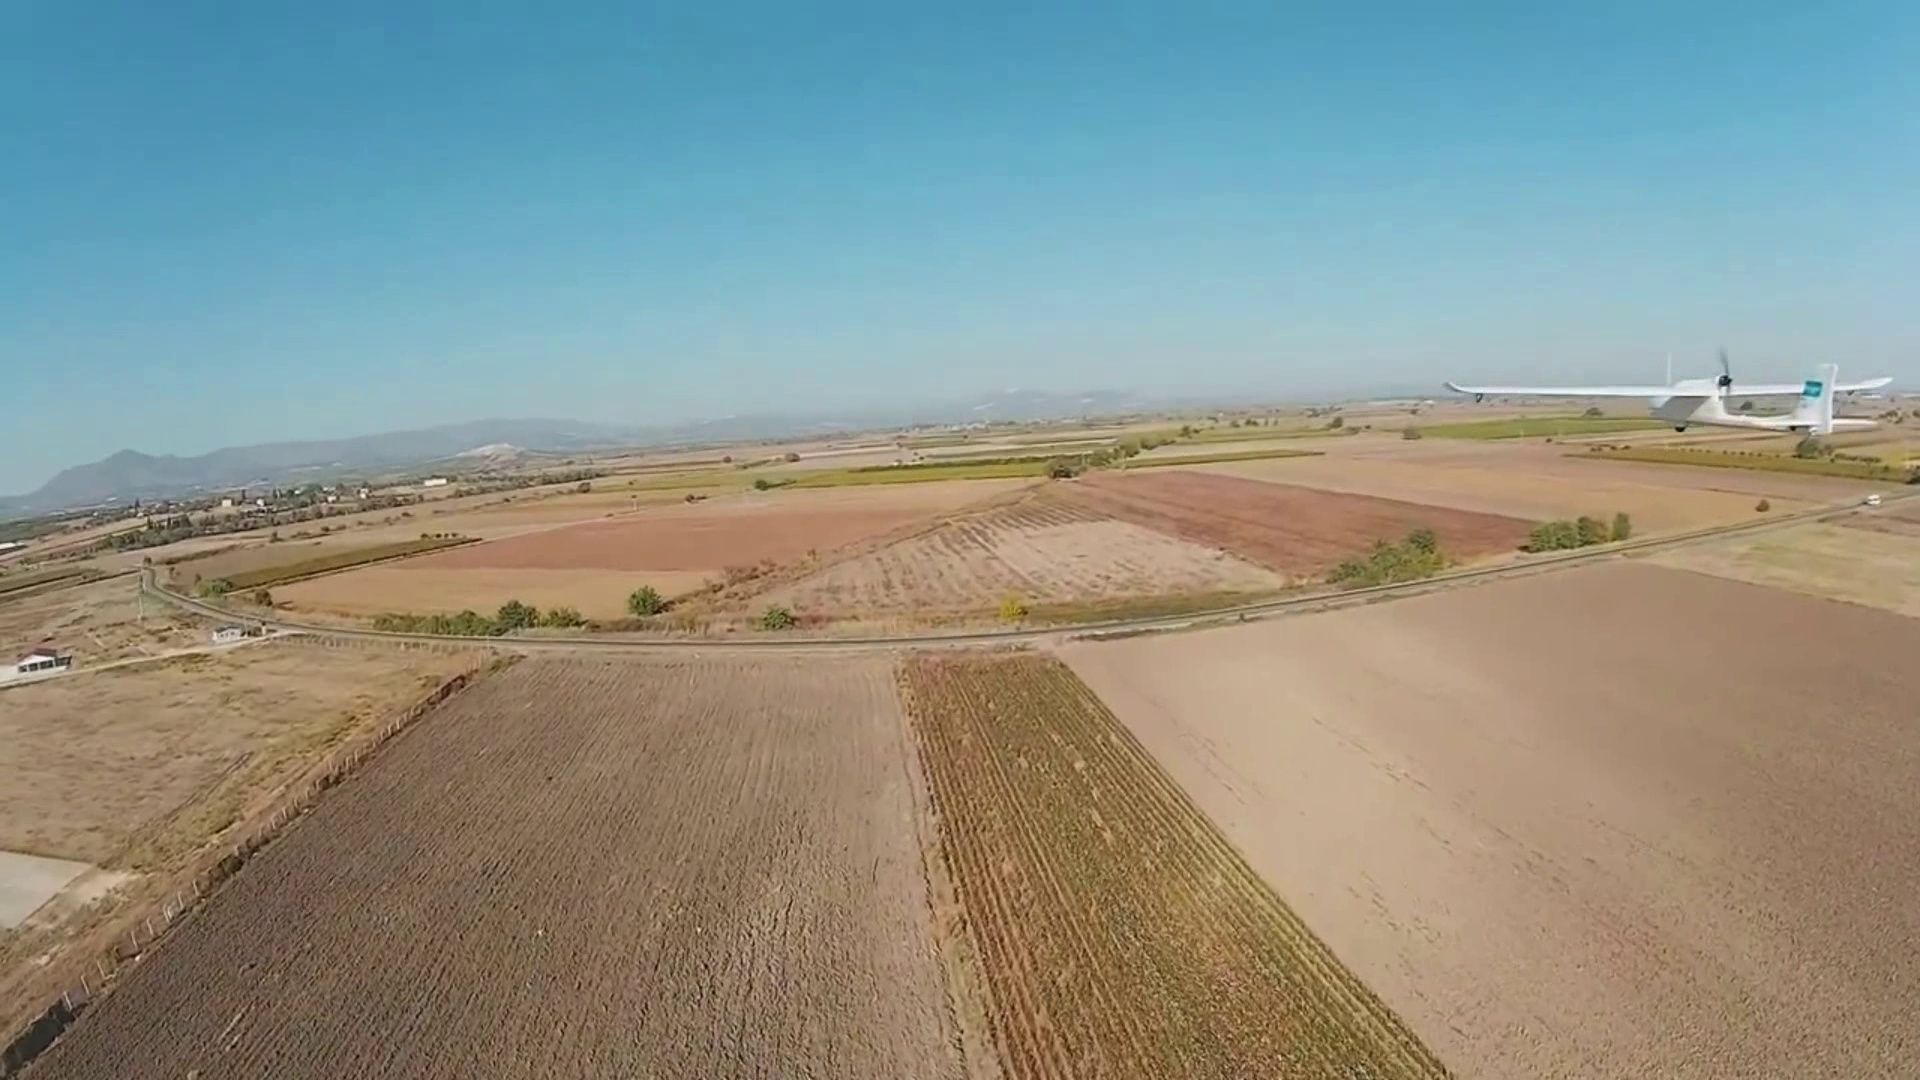airplane: (1452, 349, 1871, 440)
